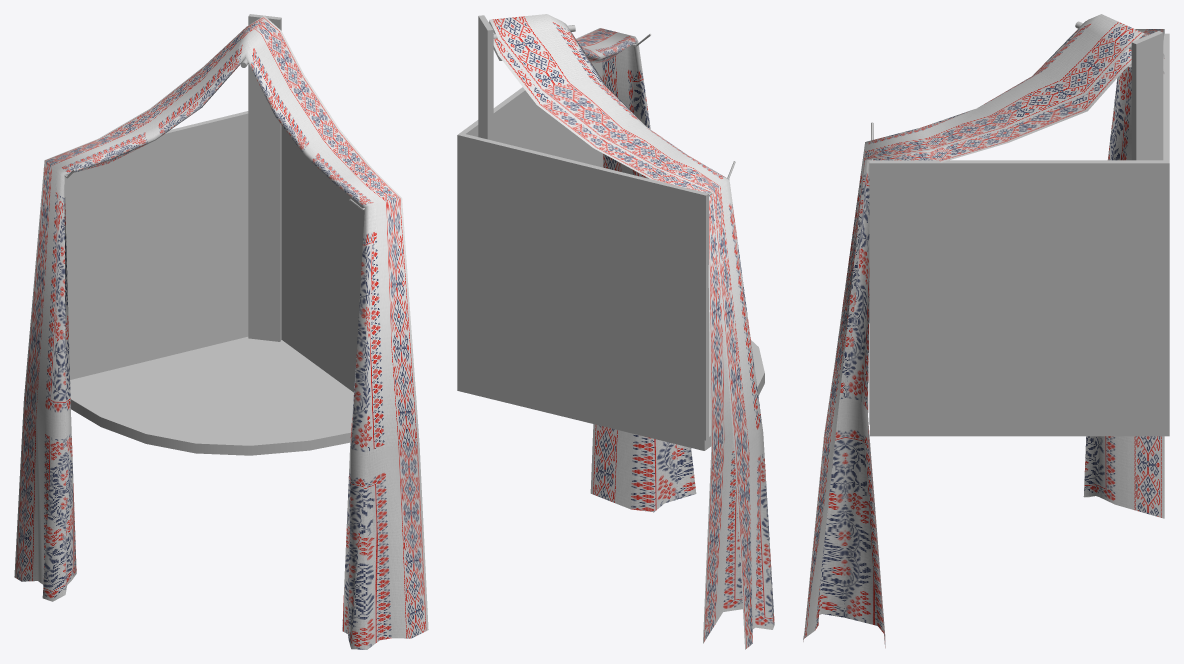
File: Iconostasis.FBX
3 renders of one model, left to right at view 1: azimuth 30°, elevation 25°; view 2: azimuth 150°, elevation 25°; view 3: azimuth 270°, elevation 25°, orthographic. The views are drawn at different scales.
Visible parts, largest first — view 1: Iconostasis; view 2: Iconostasis; view 3: Iconostasis.
Part boxes in pixels (<box>): Iconostasis: <box>14,14,428,649</box>; Iconostasis: <box>457,14,774,649</box>; Iconostasis: <box>803,14,1169,648</box>.
Size of the model in its own units: 54.86 by 106 by 57.19.
